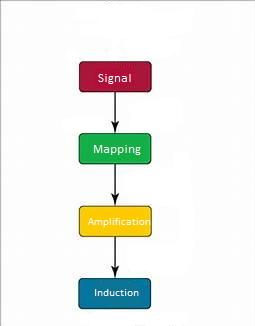arrow: (110, 91, 122, 134), (109, 236, 121, 278), (110, 161, 120, 206)
process: (77, 203, 154, 238), (76, 131, 152, 166), (77, 276, 153, 310), (77, 60, 153, 93)
text: (87, 216, 152, 227), (92, 144, 141, 157), (92, 286, 141, 298), (96, 71, 133, 85)
